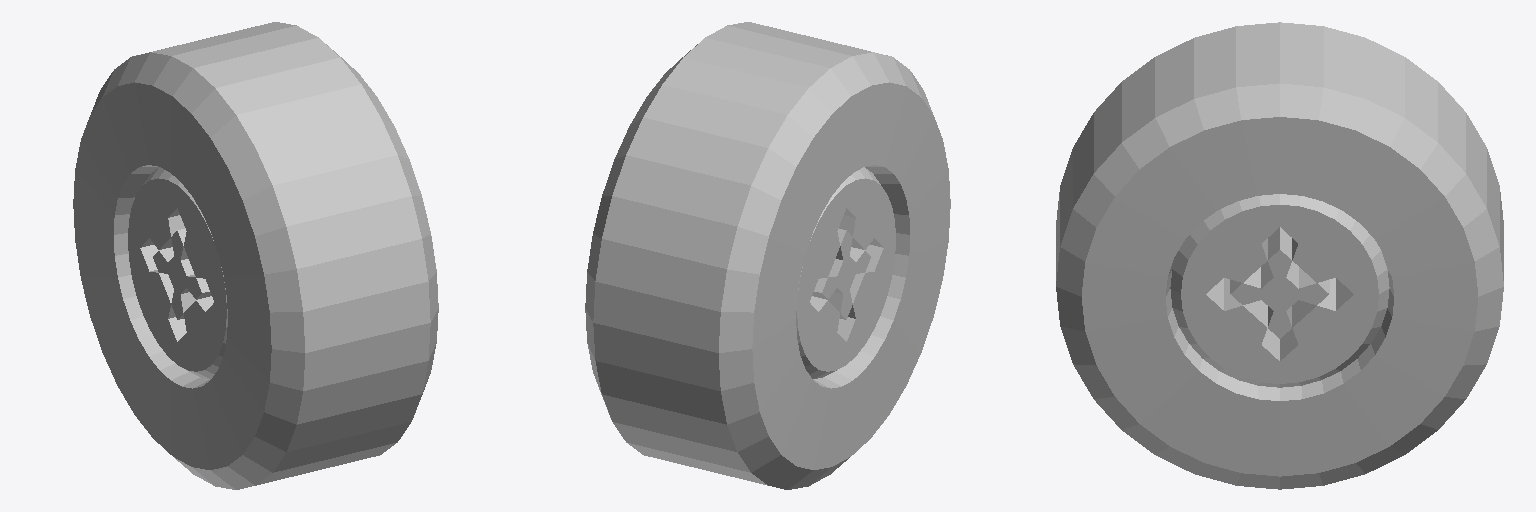
The model's file is roda.OBJ.
3 renders of one model, left to right at view 1: azimuth 30°, elevation 25°; view 2: azimuth 150°, elevation 25°; view 3: azimuth 270°, elevation 25°, orthographic.
Parts seen in each view (by area): view 1: Group63740, Group24875; view 2: Group63740, Group24875; view 3: Group63740, Group24875.
Part boxes in pixels (left/top/right/bottom): Group63740: left=73, top=22, right=438, bottom=489; Group24875: left=128, top=167, right=227, bottom=378; Group63740: left=585, top=22, right=950, bottom=489; Group24875: left=796, top=167, right=895, bottom=378; Group63740: left=1056, top=22, right=1503, bottom=489; Group24875: left=1170, top=194, right=1389, bottom=387.
Bounding box in the file's own units: 0.6777 × 1.54 × 1.54.